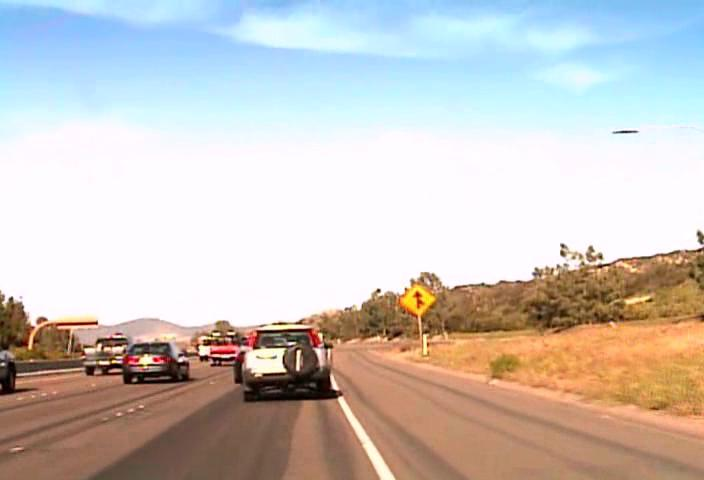merge: (398, 280, 436, 315)
